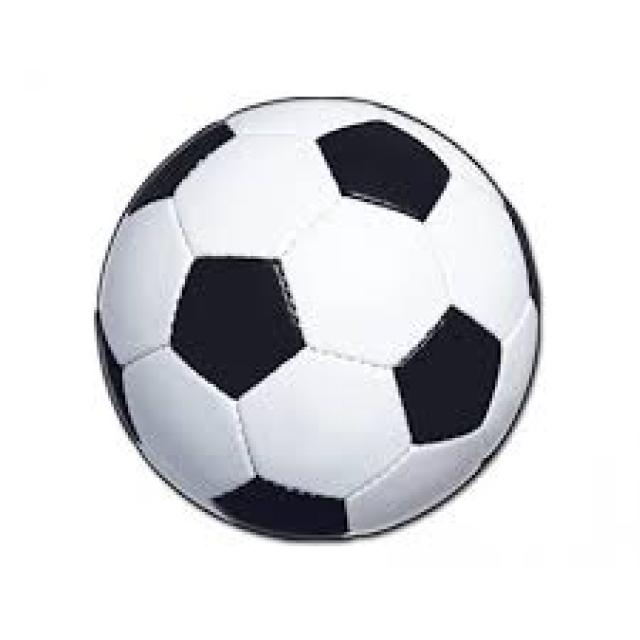football: (96, 94, 538, 543)
